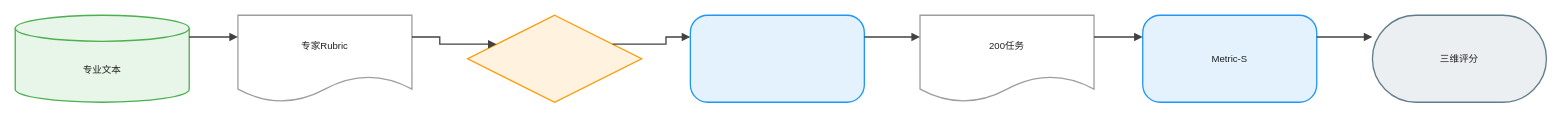
Image size: 1563x118. Some labels were removed from this diagram. Each missing label, with the box of its shape:
专家复核: (689, 14, 865, 102)
难度过滤: (467, 14, 642, 102)
